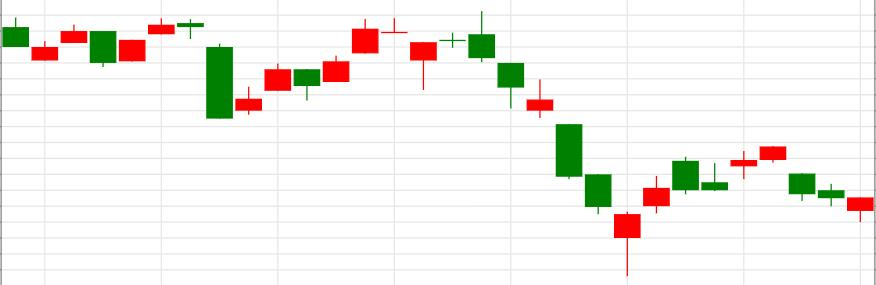hammer_rise: (469, 11, 641, 277)
